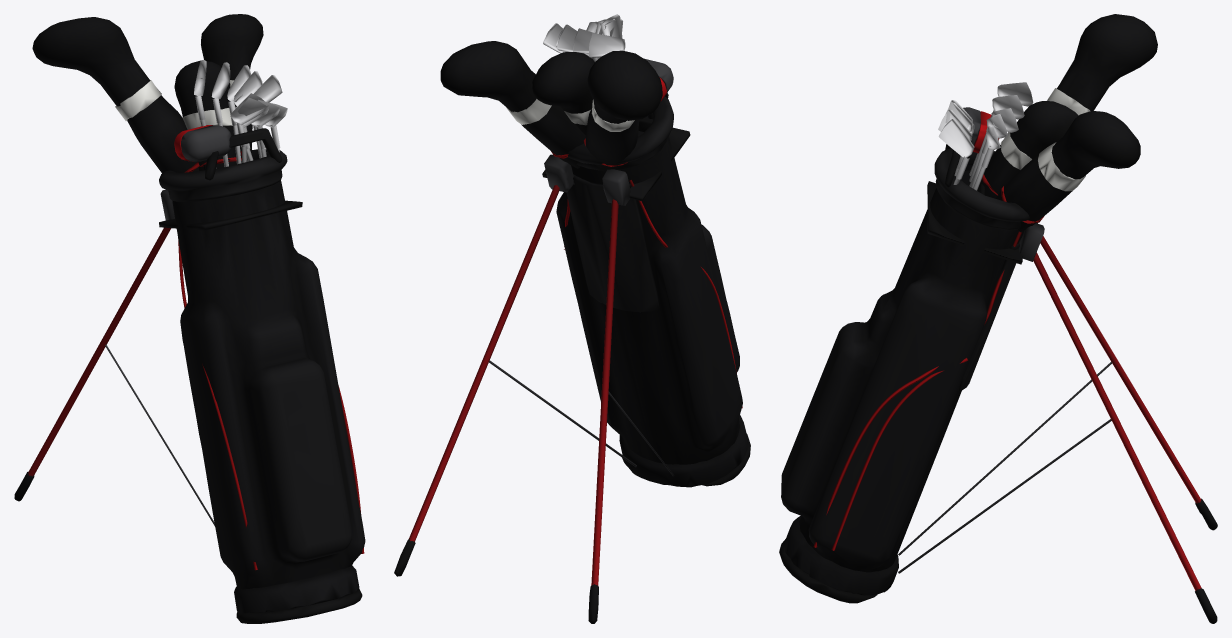
Rendered from stand_bag_lite.glb.
The picture shows the model from 3 angles, left to right: view 1: azimuth 30°, elevation 25°; view 2: azimuth 150°, elevation 25°; view 3: azimuth 270°, elevation 25°; orthographic projection. The views are drawn at different scales.
Visible parts, largest first — view 1: stand_bag_lite; view 2: stand_bag_lite; view 3: stand_bag_lite.
Part boxes in pixels (<box>): stand_bag_lite: <box>14,14,365,623</box>; stand_bag_lite: <box>394,14,750,623</box>; stand_bag_lite: <box>779,14,1217,623</box>.
Bounding box in the file's own units: 0.4794 × 1.09 × 0.8309.
